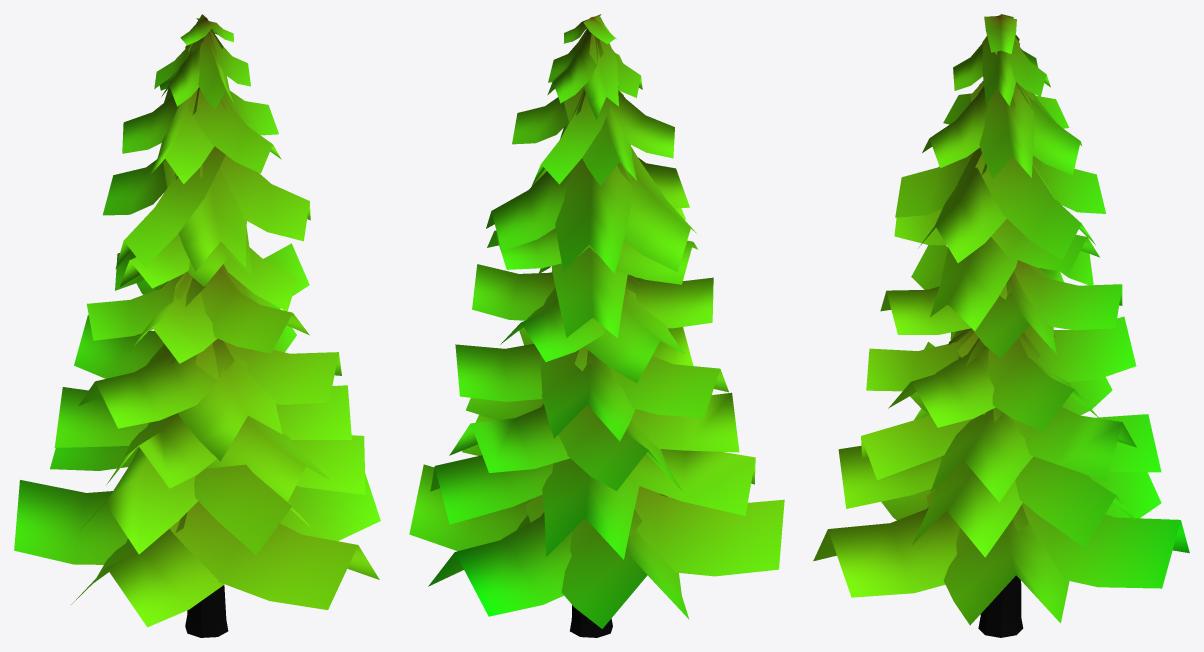
Rendered from SM_Tree_Pine_01.fbx.
3 renders of one model, left to right at view 1: azimuth 30°, elevation 25°; view 2: azimuth 150°, elevation 25°; view 3: azimuth 270°, elevation 25°, orthographic.
Visible parts, largest first — view 1: SM_Tree_Pine_01; view 2: SM_Tree_Pine_01; view 3: SM_Tree_Pine_01.
Part boxes in pixels (left/top/right/bottom): SM_Tree_Pine_01: left=14, top=14, right=380, bottom=637; SM_Tree_Pine_01: left=409, top=14, right=784, bottom=637; SM_Tree_Pine_01: left=813, top=14, right=1189, bottom=637.
Size of the model in its own units: 314 by 568 by 317.
